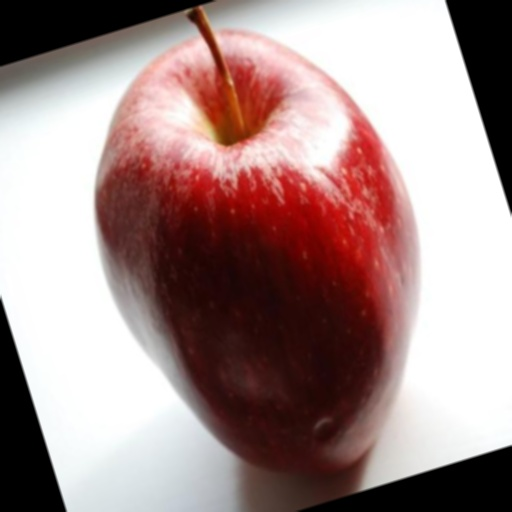fruit: (313, 58, 512, 425), (101, 0, 336, 114), (96, 0, 334, 102), (86, 0, 324, 81), (210, 32, 212, 35), (213, 40, 214, 41)
